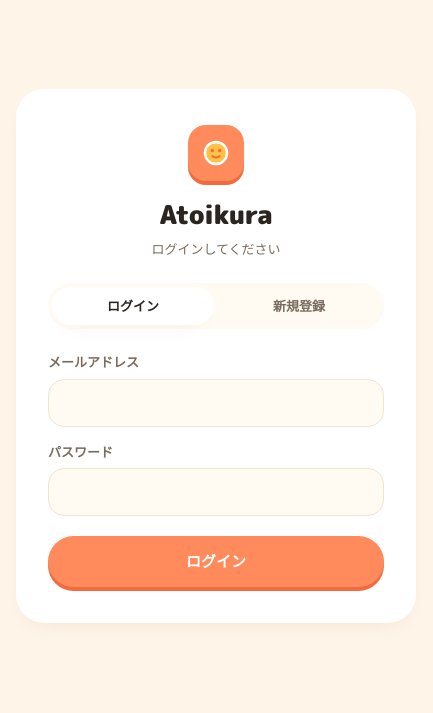
Test: LoginScreen › shows error when signup password is too short
Click the button "新規登録".
click(299, 306)  # box [218,287,380,325]
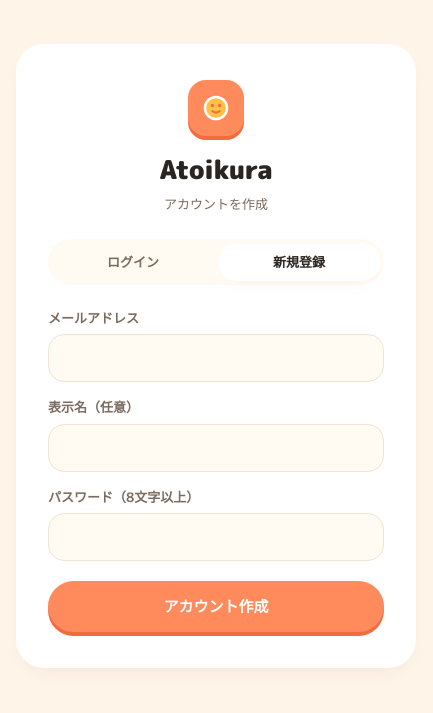
Type "test@example.com" into the field labelled "メールアドレス".
click(216, 358); type("test@example.com")  # box [48,334,384,382]
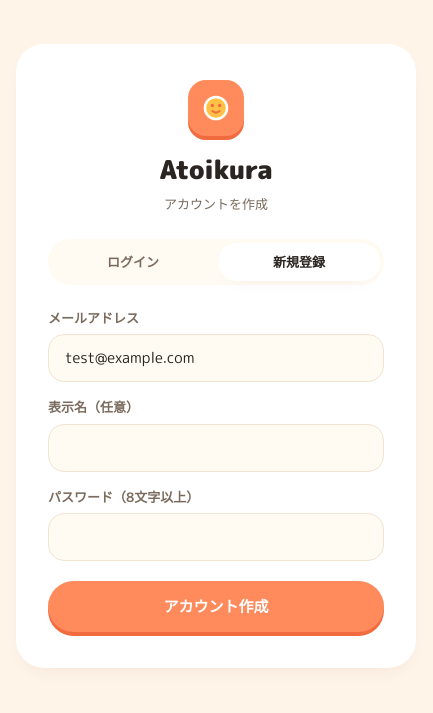
Type "short" into the password field labelled "パスワード（8文字以上）".
click(216, 537); type("short")  # box [48,513,384,561]
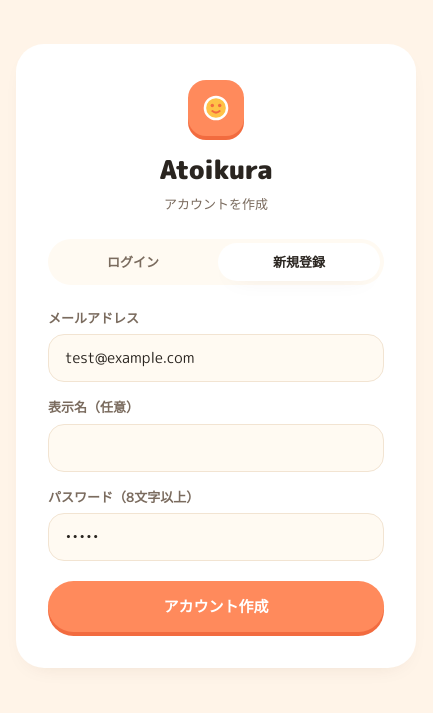
Click the button "アカウント作成".
click(216, 606)  # box [48,581,384,632]
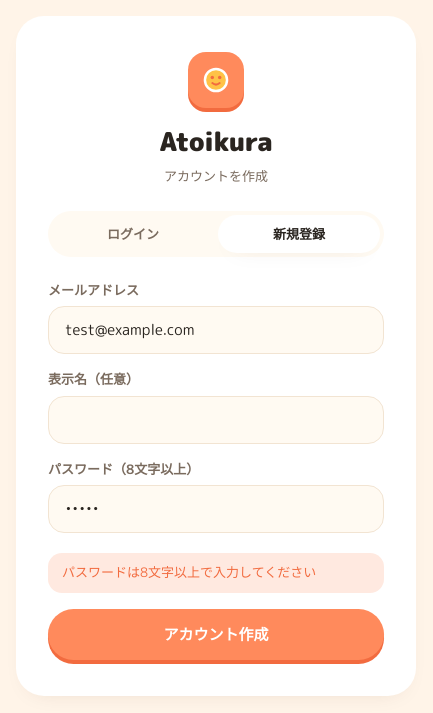
Result: the text "パスワードは8文字以上で入力してください" is shown at [48,553,384,593]
